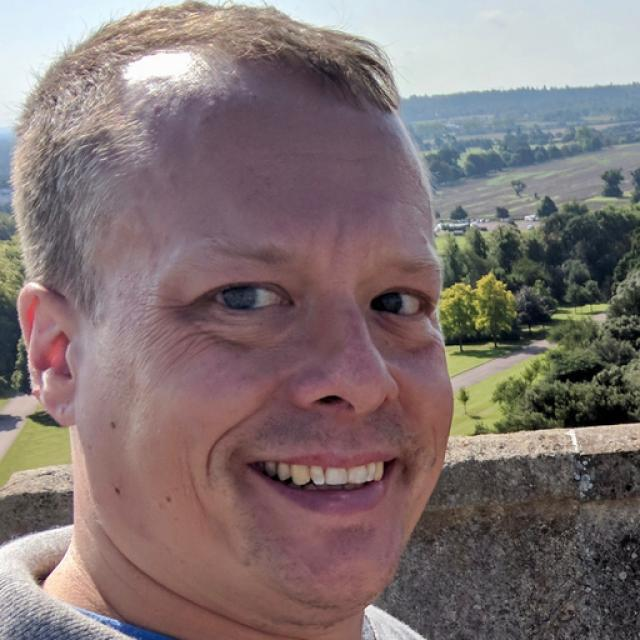happy: (95, 111, 454, 611)
